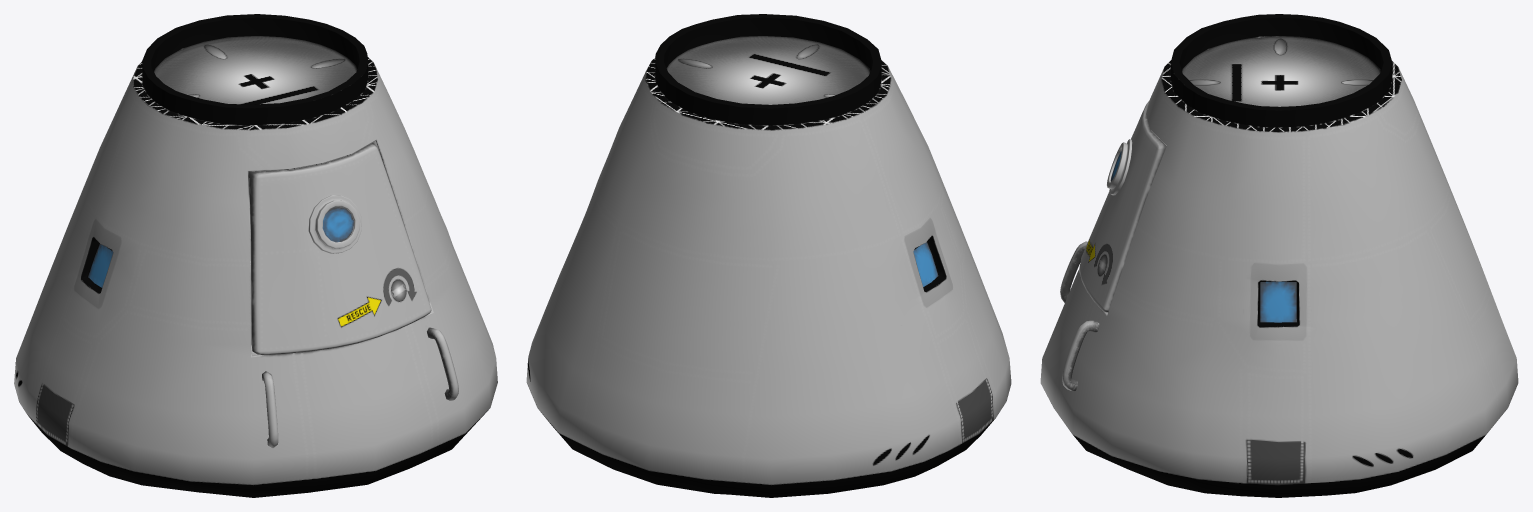
The picture shows the model from 3 angles, left to right: view 1: azimuth 30°, elevation 25°; view 2: azimuth 150°, elevation 25°; view 3: azimuth 270°, elevation 25°; orthographic projection.
Visible parts, largest first — view 1: Object_2; view 2: Object_2; view 3: Object_2.
Boxes of the visible parts, x1,y1,x2,y2 form: Object_2: [14, 14, 497, 497]; Object_2: [526, 14, 1011, 497]; Object_2: [1040, 14, 1518, 497].
Size of the model in its own units: 24.25 by 19.47 by 24.01.
Materials: 1 (1 with a texture image).
